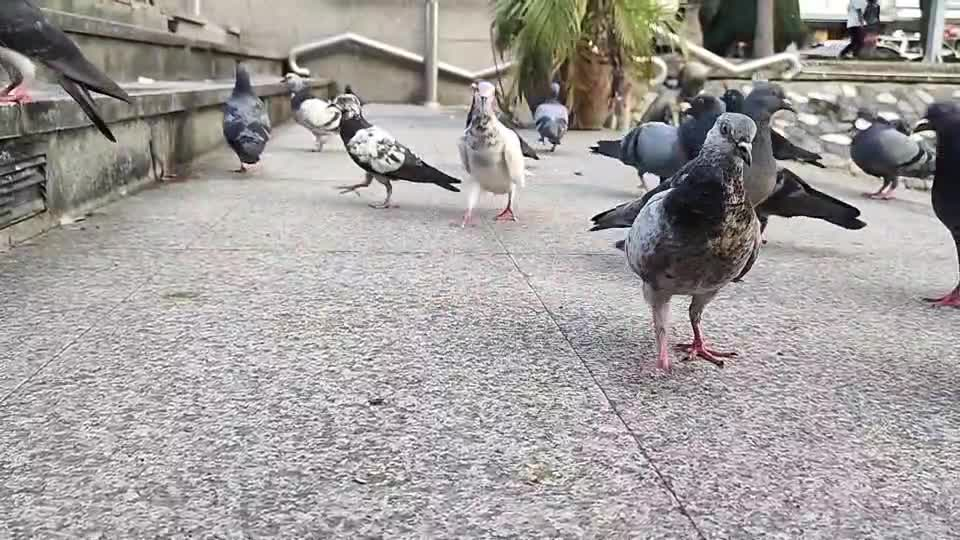Pigeon: (587, 82, 867, 245), (611, 110, 763, 375), (0, 0, 132, 143), (328, 87, 462, 209), (456, 79, 529, 227), (911, 100, 959, 309), (846, 109, 935, 199), (463, 78, 540, 160), (220, 61, 272, 173), (279, 72, 342, 152), (532, 81, 569, 152)
